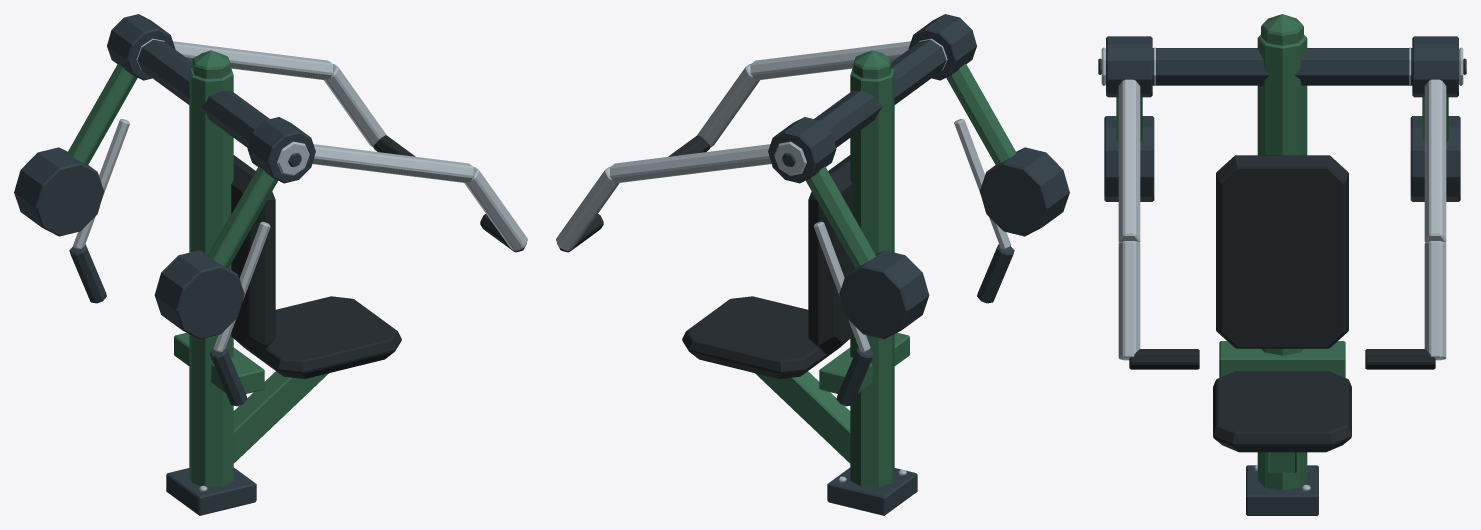
The model's file is b09_seated_chest_press.glb.
The picture shows the model from 3 angles, left to right: view 1: azimuth 30°, elevation 25°; view 2: azimuth 150°, elevation 25°; view 3: azimuth 270°, elevation 25°; orthographic projection. The views are drawn at different scales.
Visible parts, largest first — view 1: b09_seated_chest_press; view 2: b09_seated_chest_press; view 3: b09_seated_chest_press.
Boxes of the visible parts, x1,y1,x2,y2 form: b09_seated_chest_press: [14, 14, 527, 515]; b09_seated_chest_press: [556, 14, 1069, 515]; b09_seated_chest_press: [1098, 14, 1466, 515].
Bounding box in the file's own units: 1.37 × 1.62 × 1.11.
